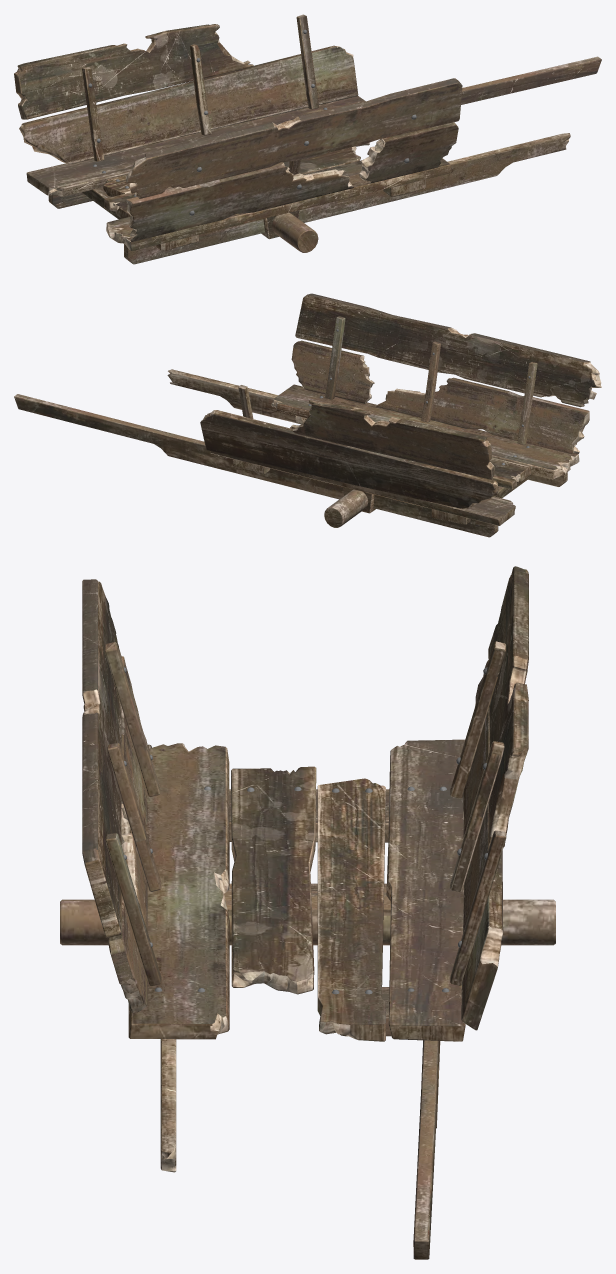
3 renders of one model, top to bottom at view 1: azimuth 30°, elevation 25°; view 2: azimuth 150°, elevation 25°; view 3: azimuth 270°, elevation 25°, orthographic. The views are drawn at different scales.
Parts seen in each view (by area): view 1: SM_Village_Cart_v1_LOD0; view 2: SM_Village_Cart_v1_LOD0; view 3: SM_Village_Cart_v1_LOD0.
Boxes of the visible parts, x1,y1,x2,y2 form: SM_Village_Cart_v1_LOD0: (14,14,601,264); SM_Village_Cart_v1_LOD0: (14,293,601,537); SM_Village_Cart_v1_LOD0: (60,566,555,1259).
Size of the model in its own units: 3.89 by 0.8916 by 1.65.
1 material, 1 textured.
